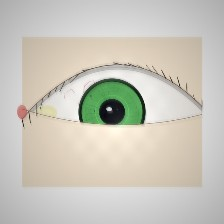pinguecula_lesion: (25, 95, 68, 130)
